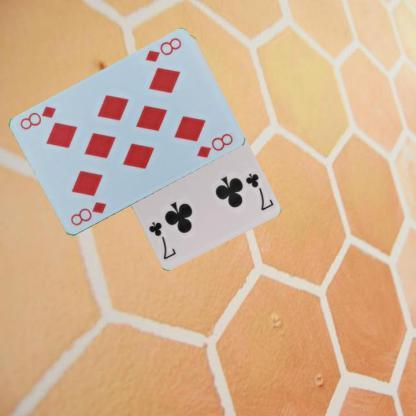7c: (242, 170, 275, 212)
8d: (68, 199, 108, 228), (142, 35, 182, 64)
